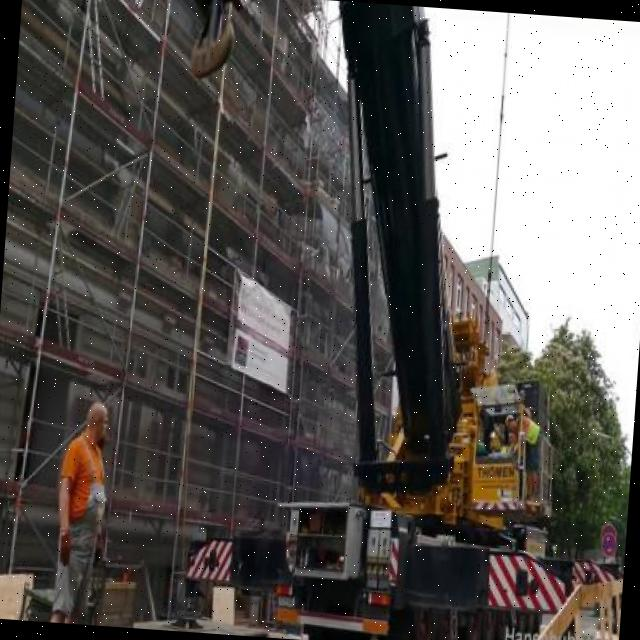Mobile Crane: (182, 0, 640, 640)
